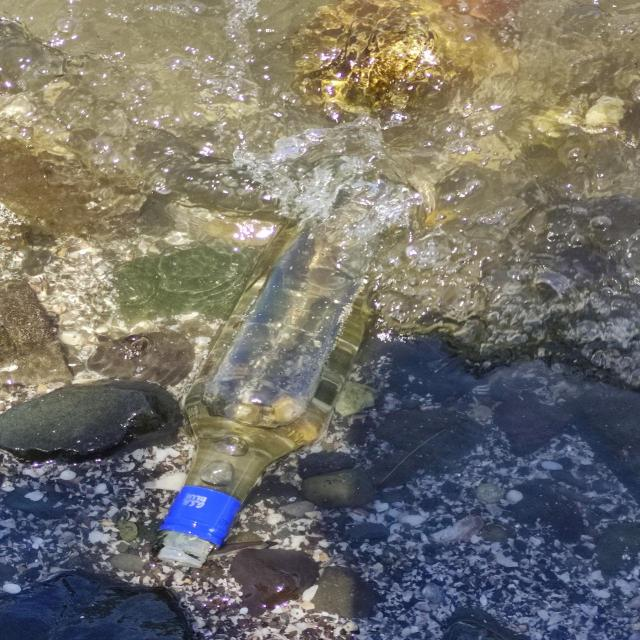litter: (158, 208, 424, 568)
